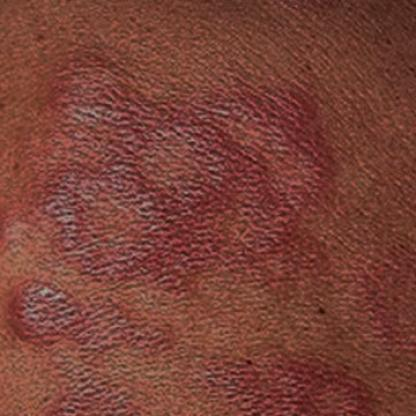Leprosy: (29, 45, 349, 285), (0, 278, 179, 362), (201, 348, 374, 415)
